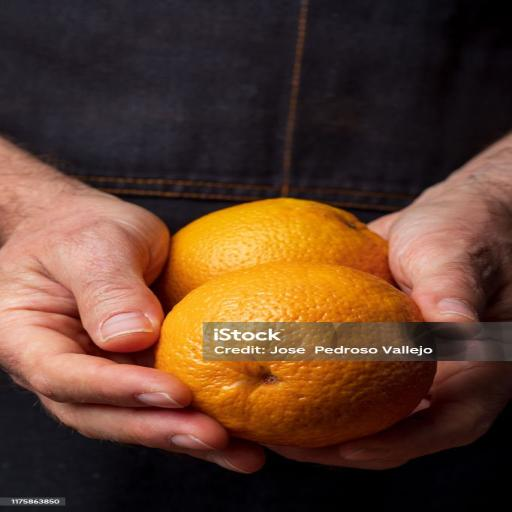orange: (156, 262, 435, 446), (157, 198, 392, 312)
